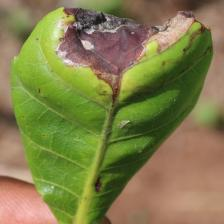leaf miner: (9, 5, 214, 224)
